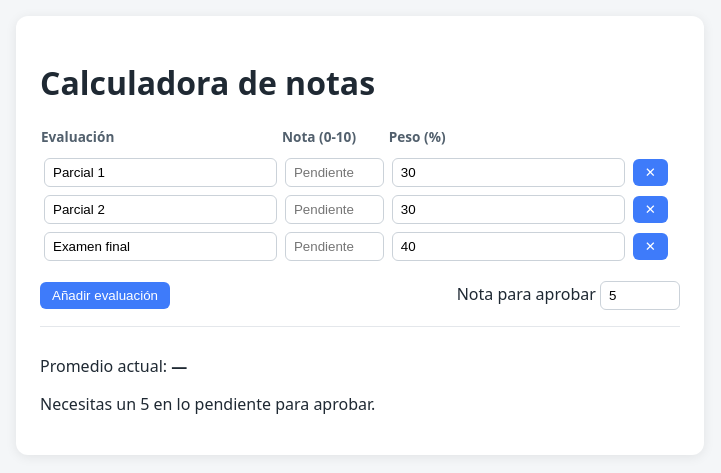
Scenario: App › permite añadir evaluaciones
The width and height of the screenshot is (721, 473).
Click the button "Añadir evaluación": (105, 295) x1=40 y1=282 x2=170 y2=309
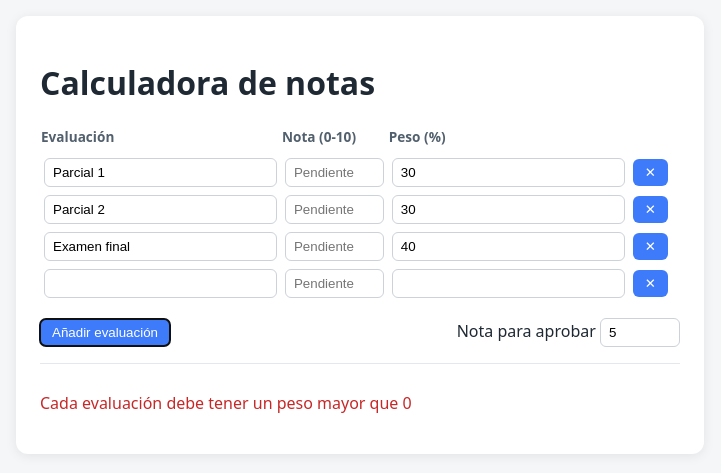
Check: the number field named "Nota evaluación 4" is shown, box x1=285 y1=269 x2=384 y2=298
